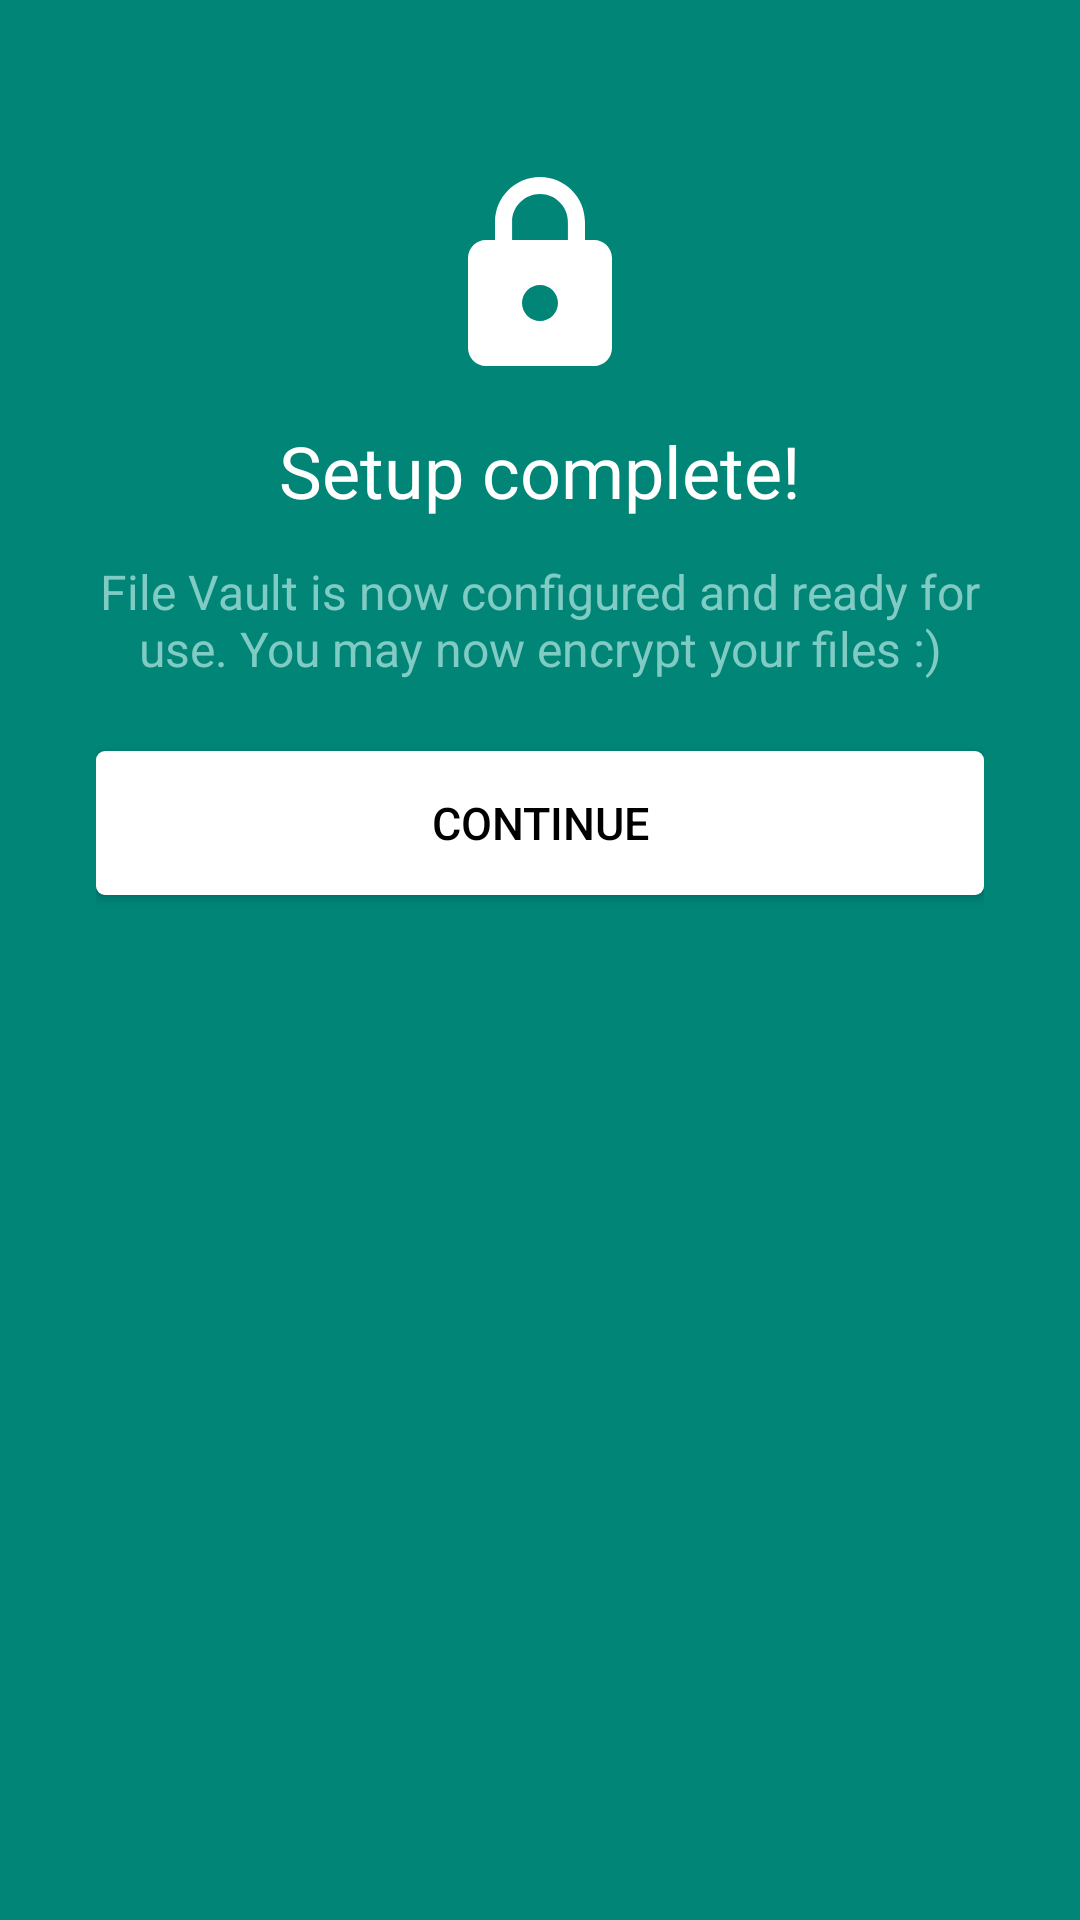

Where icons sit on this 1080x1920 app screen, as {"x1": x1, "y1": y1, "x2": x2, "y2": y2}:
lock: {"x1": 468, "y1": 177, "x2": 612, "y2": 366}
